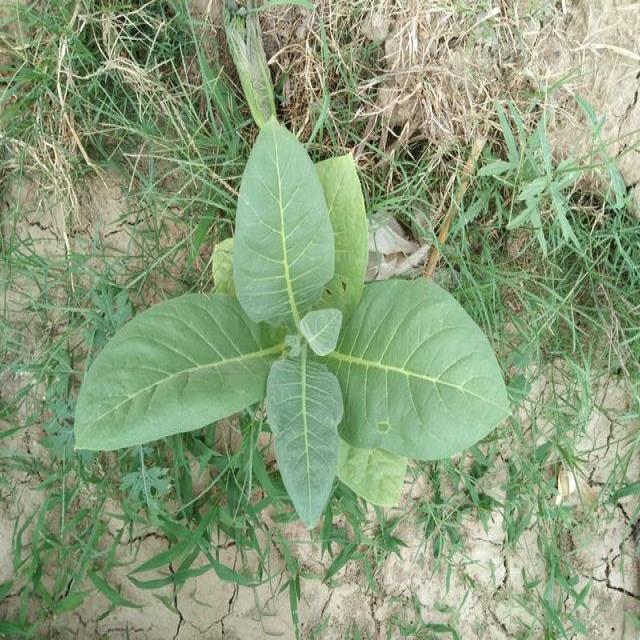crop: (69, 120, 520, 526)
